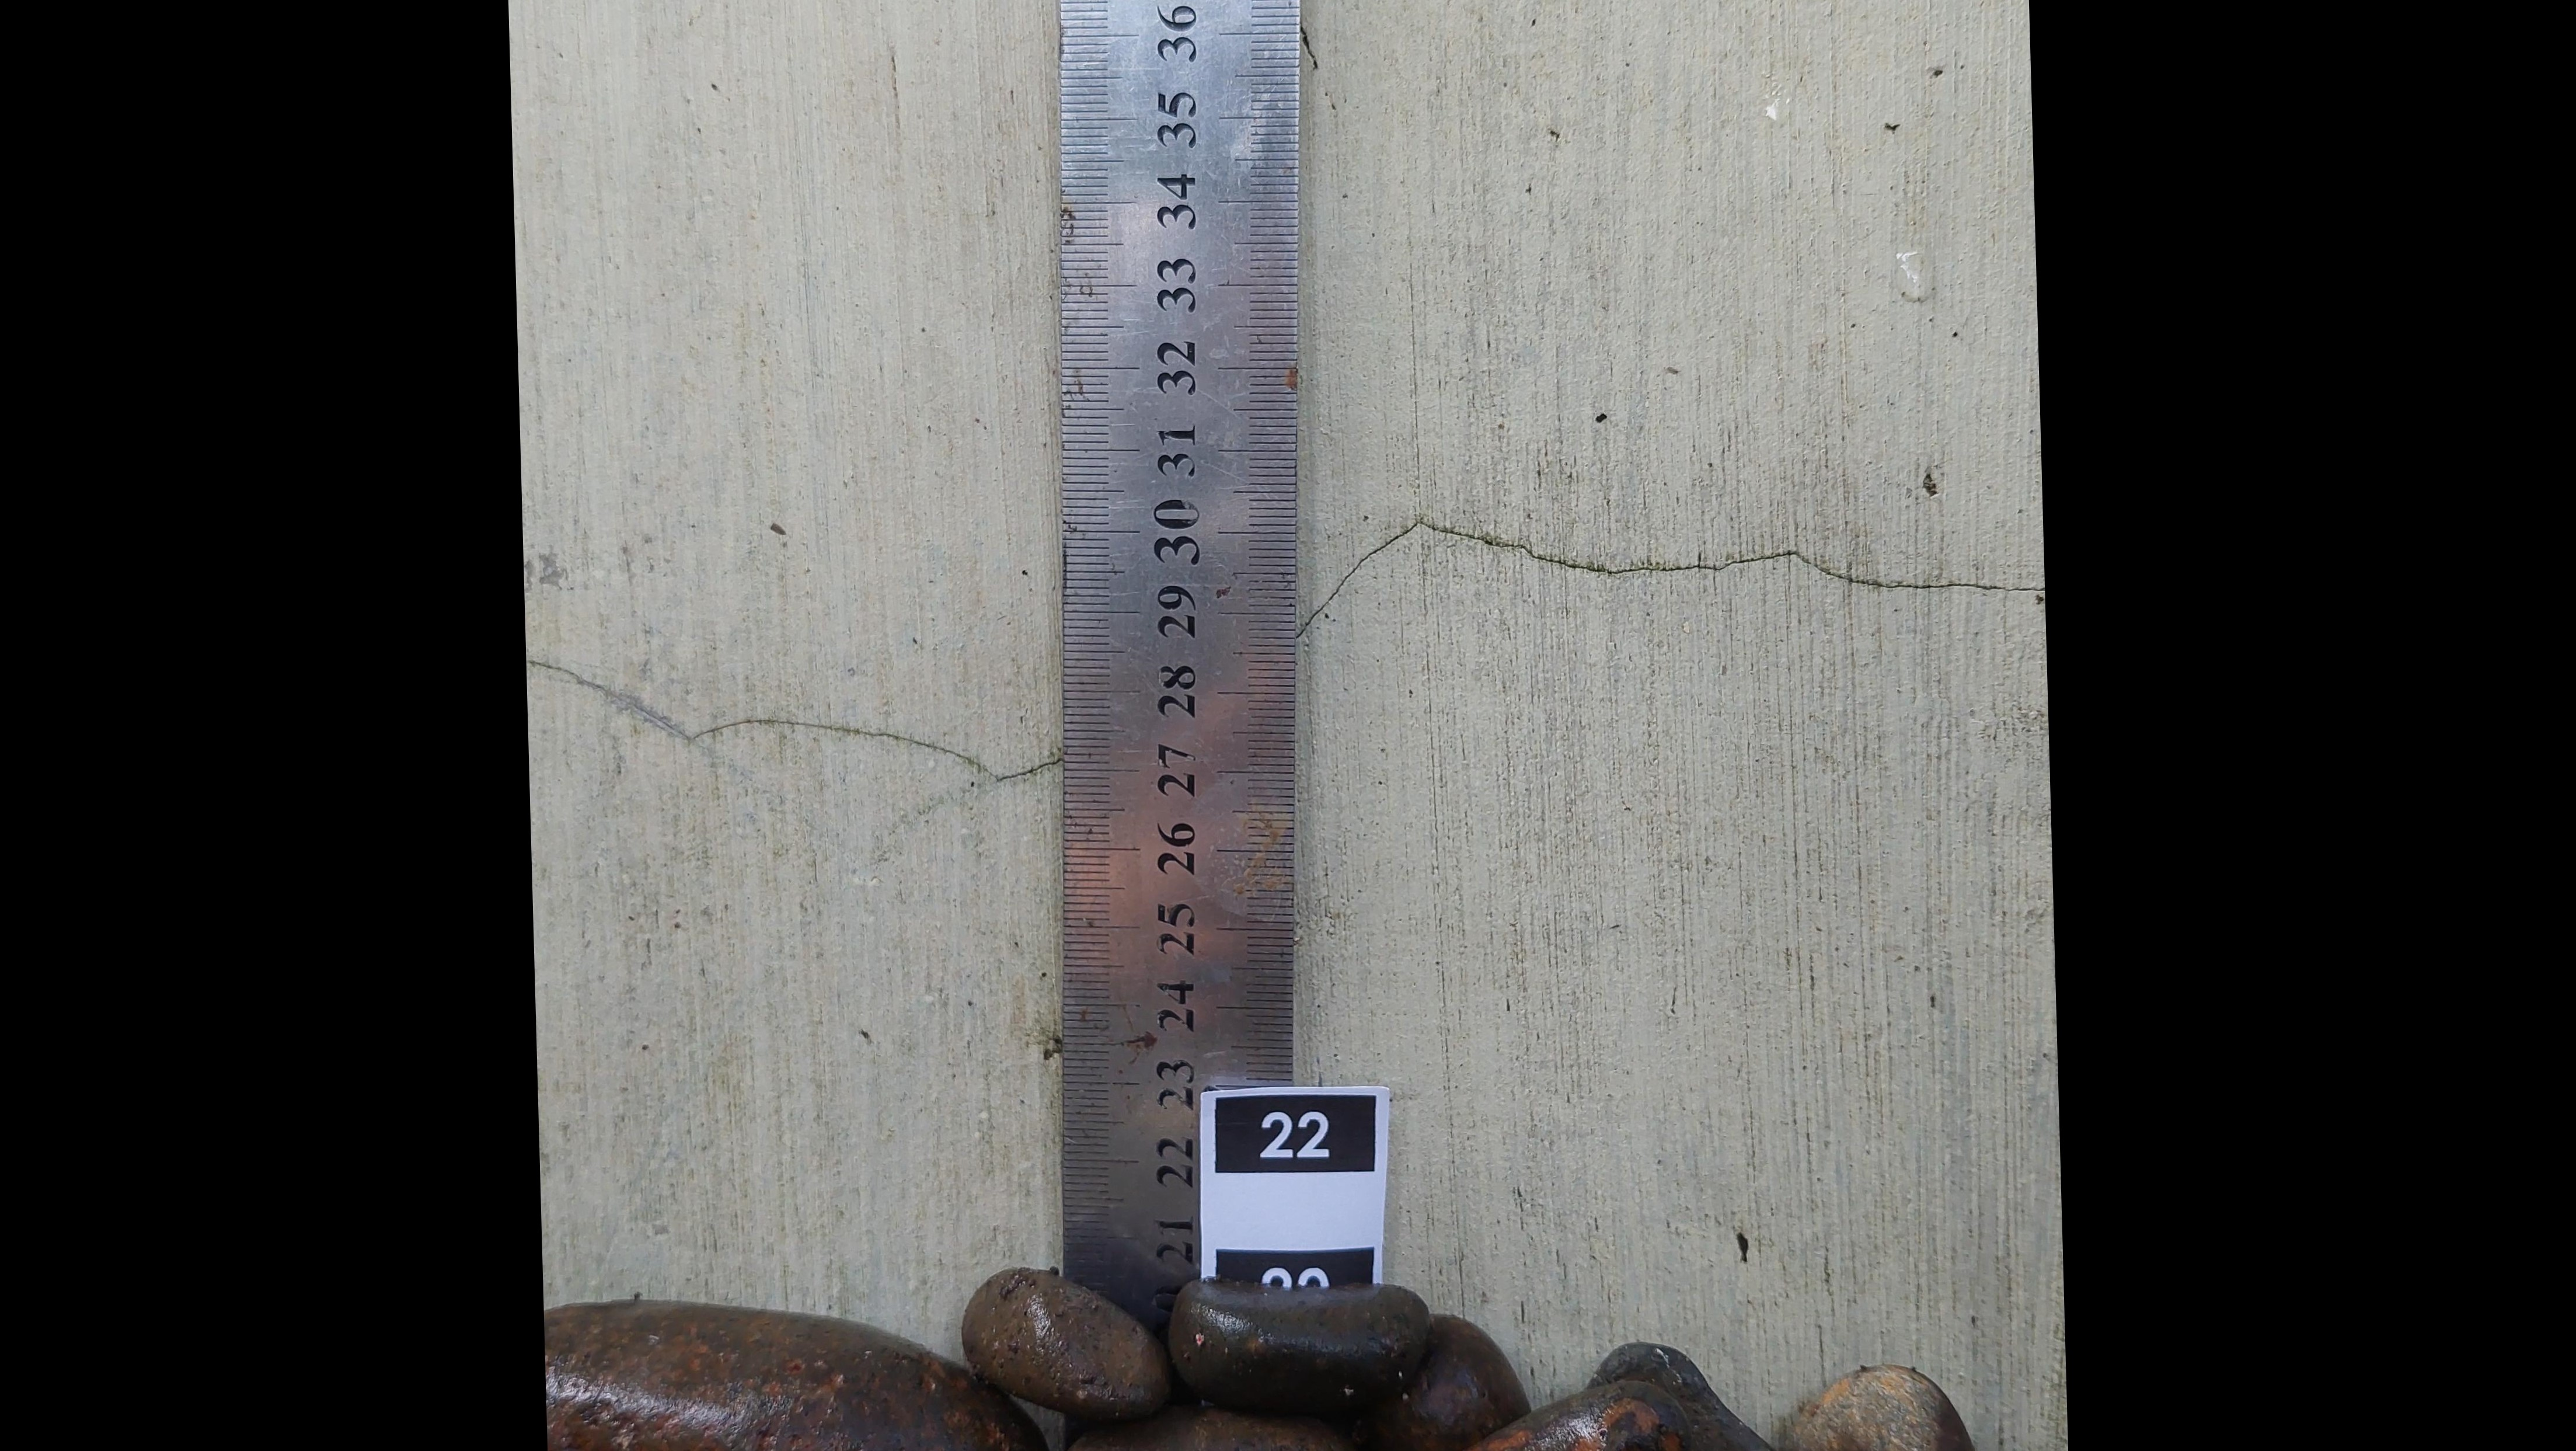kotak_2x1: (1219, 1094, 1376, 1171)
